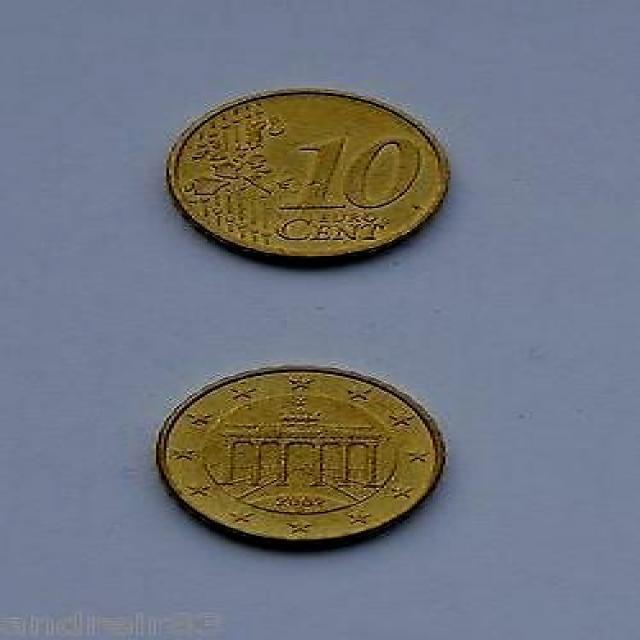10c: (144, 68, 480, 293), (144, 351, 458, 570)
